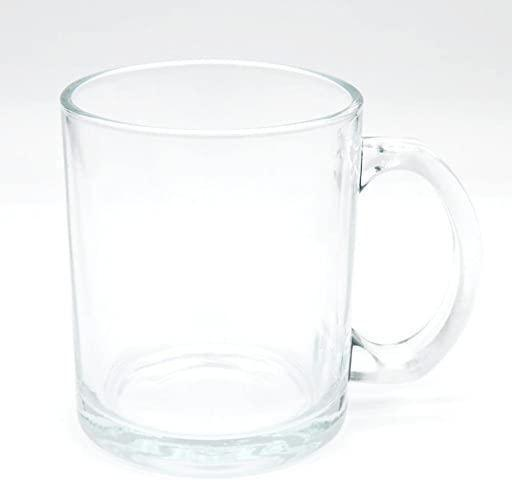glass-mug: (47, 55, 486, 466)
